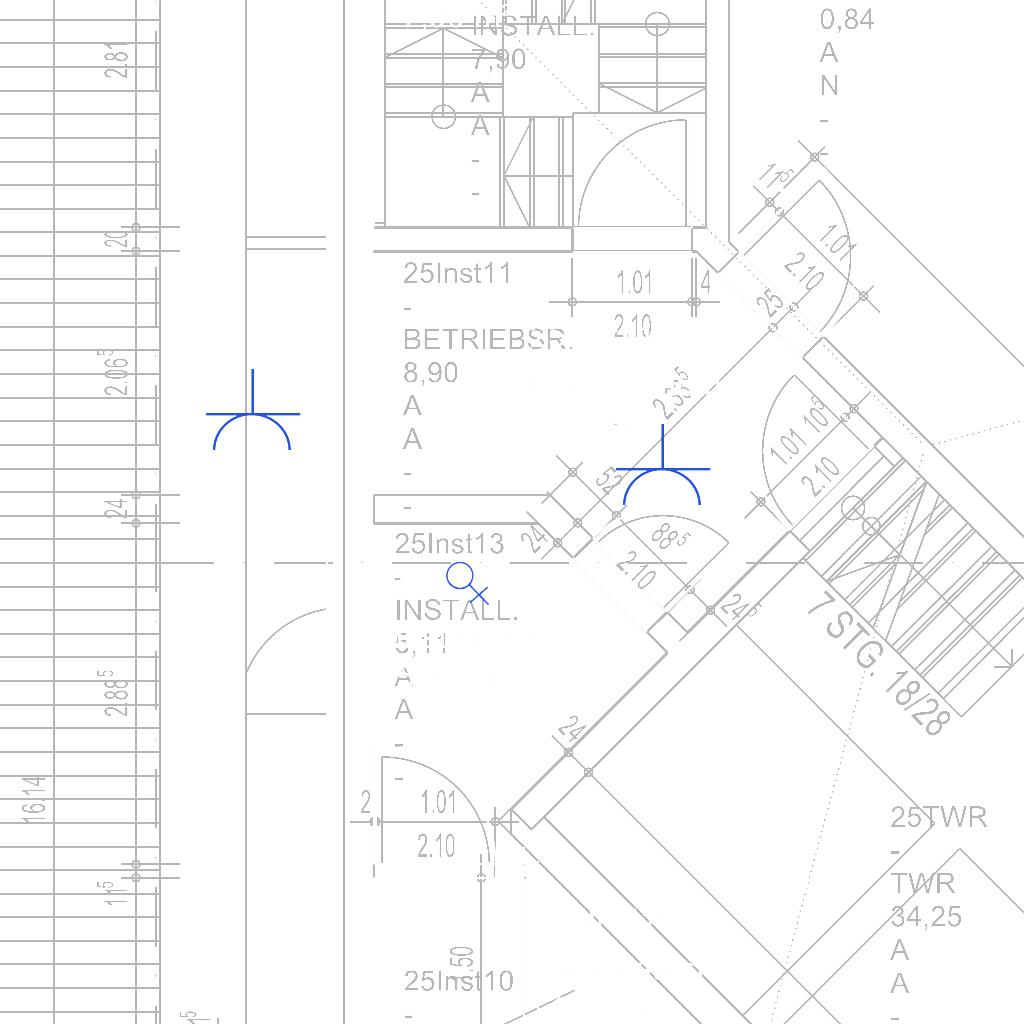Elektroanschluss_allgemein_230V_Geraeteanschlussdose_230V: (445, 557, 492, 606)
Schukosteckdose_einfach: (202, 368, 302, 455), (612, 423, 712, 510)
